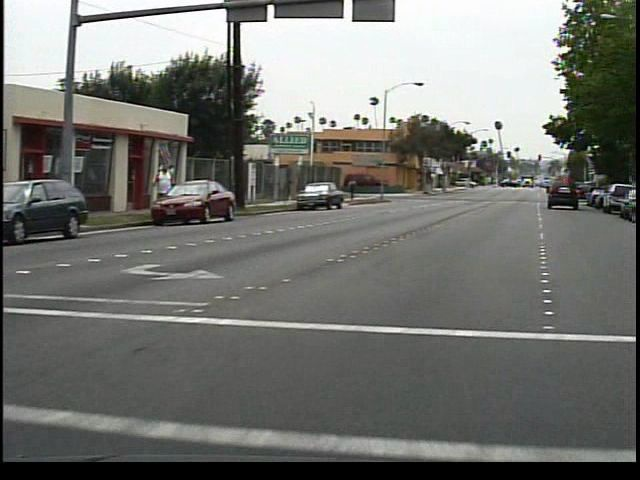person: (155, 158, 183, 220), (351, 174, 365, 203)
